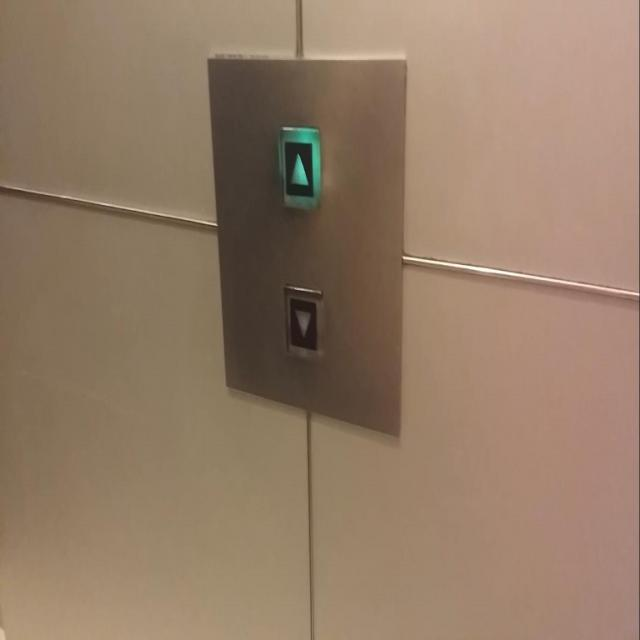down: (284, 282, 326, 366)
up: (277, 125, 323, 213)
